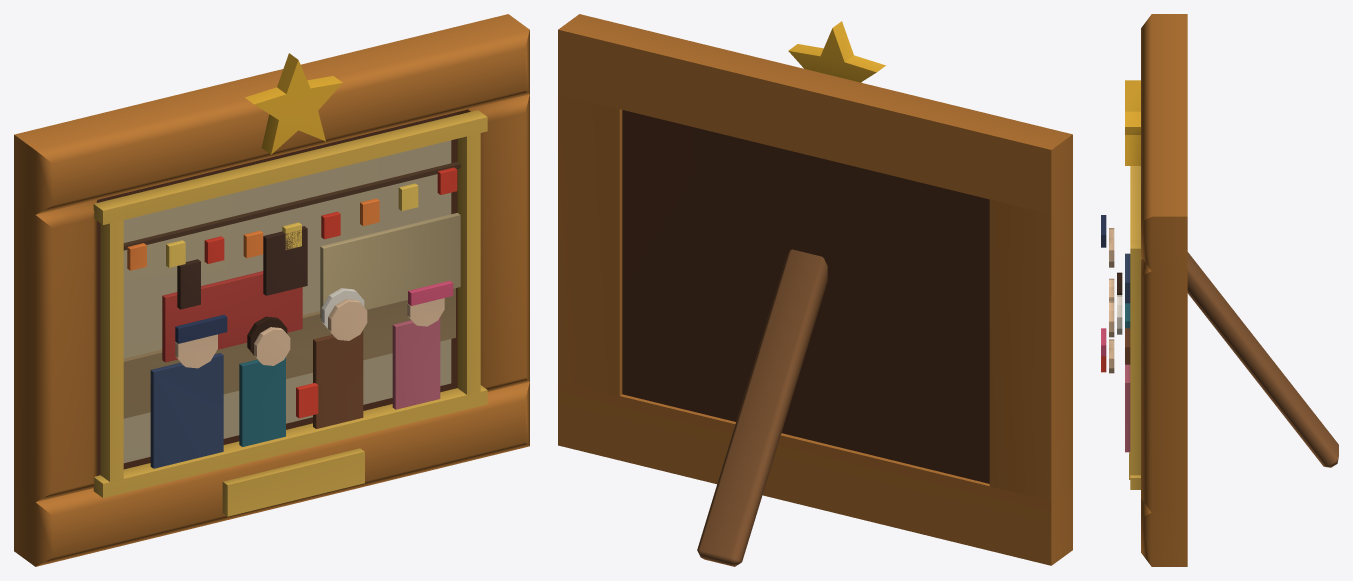
Rendered from keepsake-photo.glb.
3 views of the same model, side by side, from view 1: azimuth 30°, elevation 25°; view 2: azimuth 150°, elevation 25°; view 3: azimuth 270°, elevation 25° (orthographic). The views are drawn at different scales.
Parts seen in each view (by area): view 1: Keepsake photo Wood, Keepsake photo Plaster, Keepsake photo Metal, Keepsake photo Paint; view 2: Keepsake photo Wood, Keepsake photo Plaster, Keepsake photo Paint; view 3: Keepsake photo Wood, Keepsake photo Metal, Keepsake photo Plaster, Keepsake photo Paint.
Part boxes in pixels (left/top/right/bottom): Keepsake photo Wood: left=14, top=14, right=529, bottom=566; Keepsake photo Plaster: left=97, top=112, right=460, bottom=475; Keepsake photo Metal: left=93, top=110, right=487, bottom=516; Keepsake photo Paint: left=127, top=53, right=457, bottom=418; Keepsake photo Wood: left=558, top=14, right=1072, bottom=566; Keepsake photo Plaster: left=622, top=110, right=989, bottom=483; Keepsake photo Paint: left=788, top=21, right=885, bottom=82; Keepsake photo Wood: left=1141, top=14, right=1338, bottom=566; Keepsake photo Metal: left=1129, top=166, right=1141, bottom=489; Keepsake photo Plaster: left=1101, top=215, right=1130, bottom=452; Keepsake photo Paint: left=1101, top=80, right=1140, bottom=372.
Bounding box in the file's own units: 0.36 × 0.319 × 0.1784.
